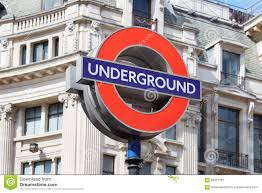London Underground: (84, 27, 201, 136)
